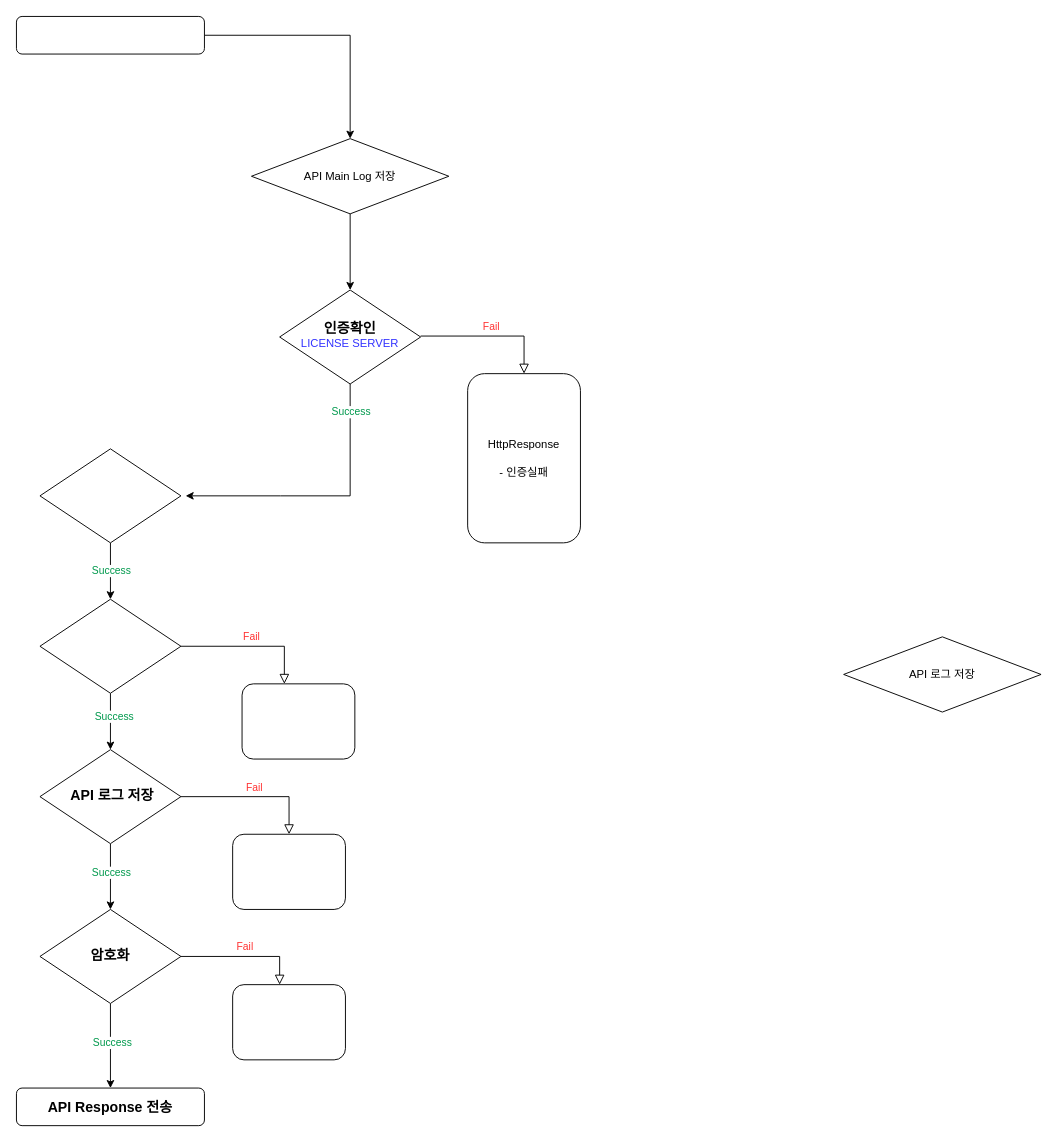
Some shapes in this 1058 by 1142 pixel diagram are drawn without their labels. The centre of each missing label's shape, as x and y in pixels:
"API Request 호출" goes at (110,35).
"API SERVICE" goes at (110,645).
"복호화 - 암호화된 DATAKEY - 암호화된 DATA" goes at (110,495).
